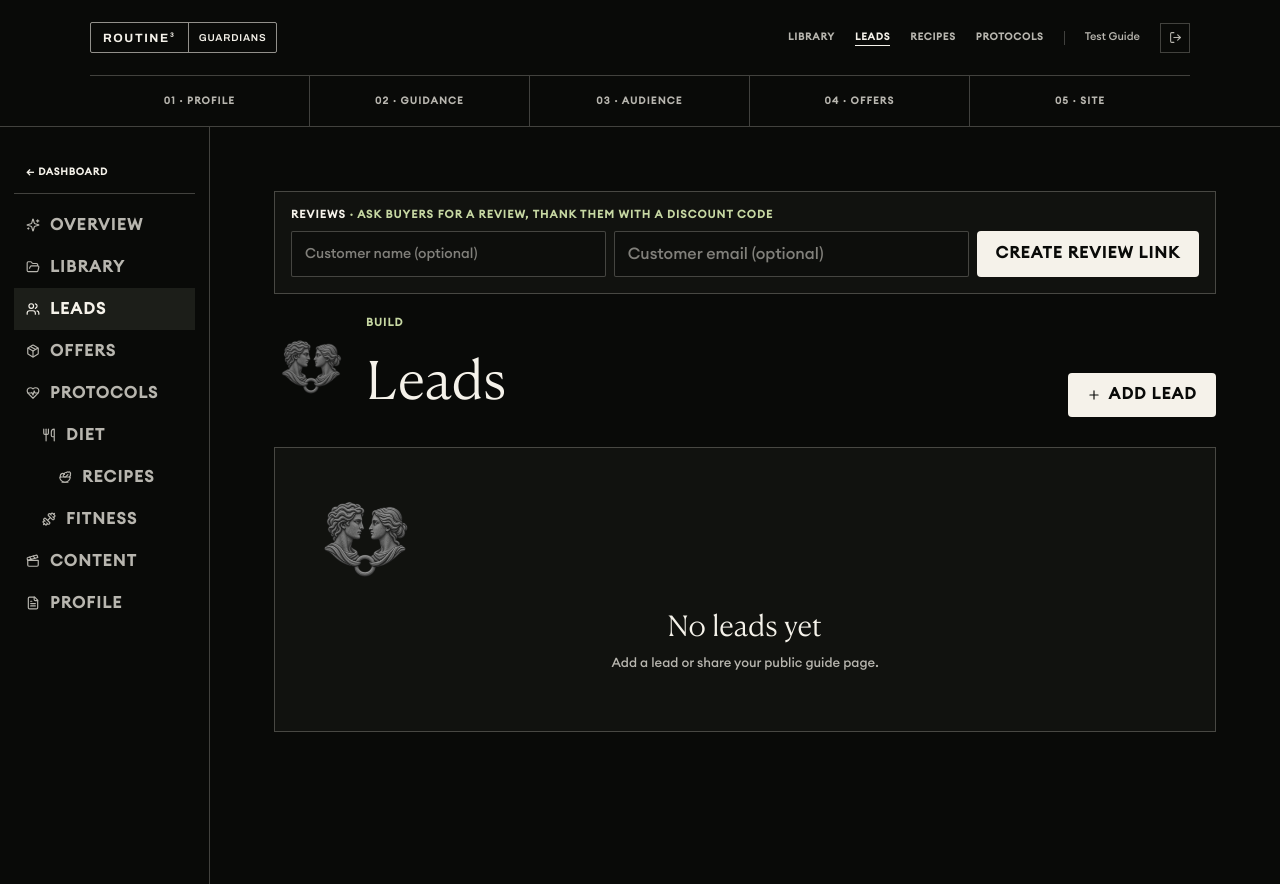
keeps sidebar navigation in the URL so reload opens the selected page
Click the button "Profile": [104, 603] box x1=14 y1=582 x2=195 y2=624
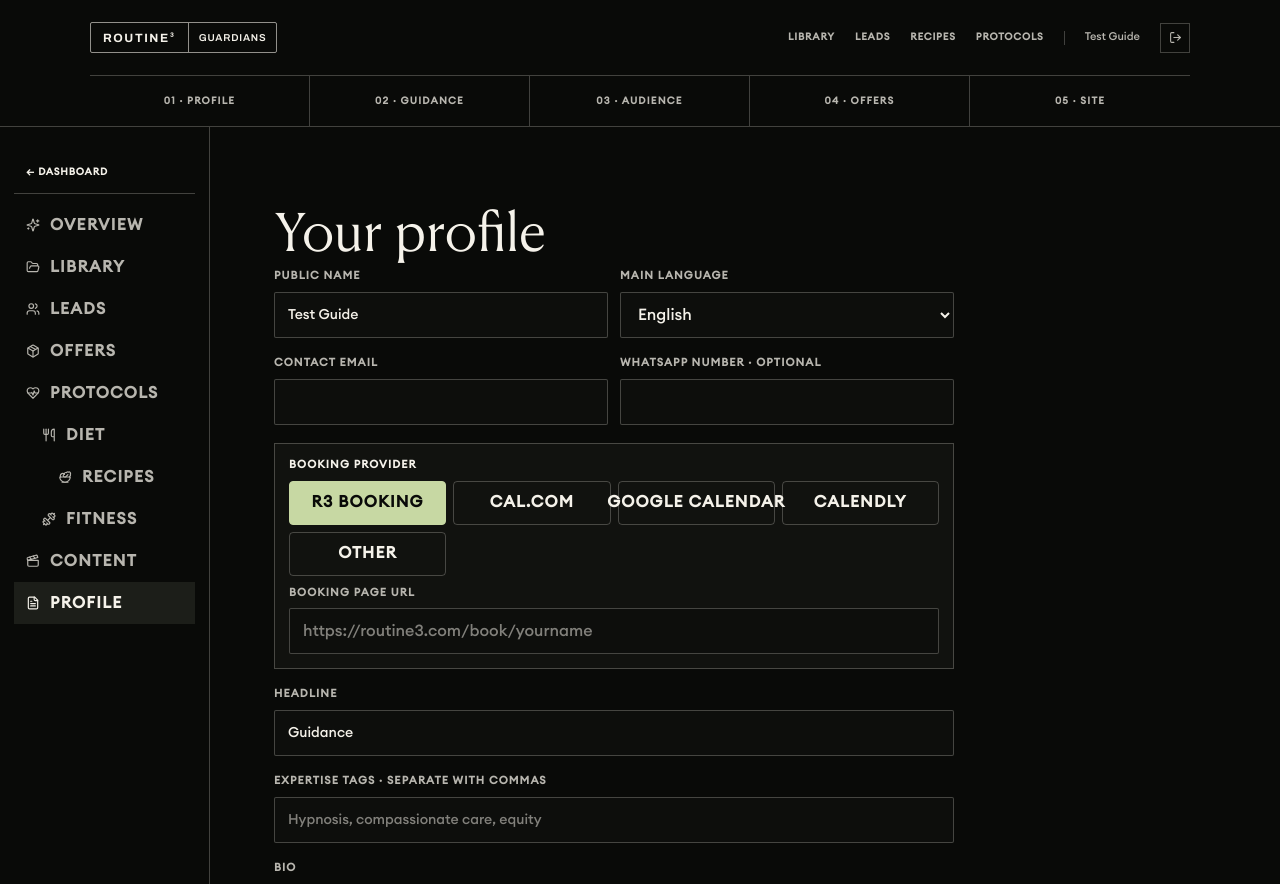
Expected: the heading "Your profile" is shown, x1=274 y1=196 x2=546 y2=264
